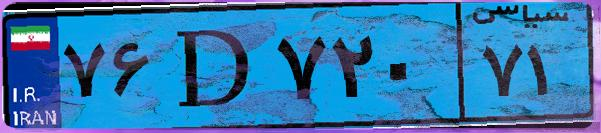0: (385, 28, 445, 110)
1: (525, 38, 570, 115)
2: (330, 28, 385, 110)
6: (110, 28, 158, 98)
7: (270, 28, 330, 110), (57, 26, 110, 100), (475, 38, 525, 113)
D: (158, 12, 270, 120)
